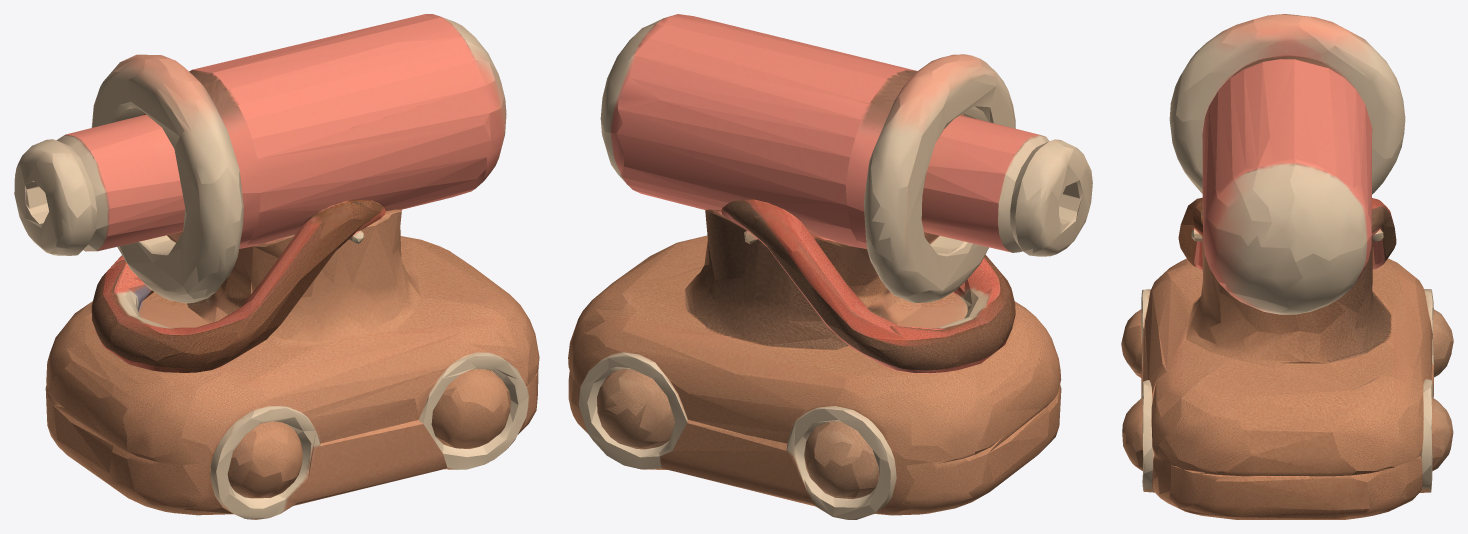
The model's file is pie_cannon.glb.
The picture shows the model from 3 angles, left to right: view 1: azimuth 30°, elevation 25°; view 2: azimuth 150°, elevation 25°; view 3: azimuth 270°, elevation 25°; orthographic projection. The views are drawn at different scales.
Size of the model in its own units: 1.9 by 1.58 by 1.29.
Materials: 1 (1 with a texture image).
